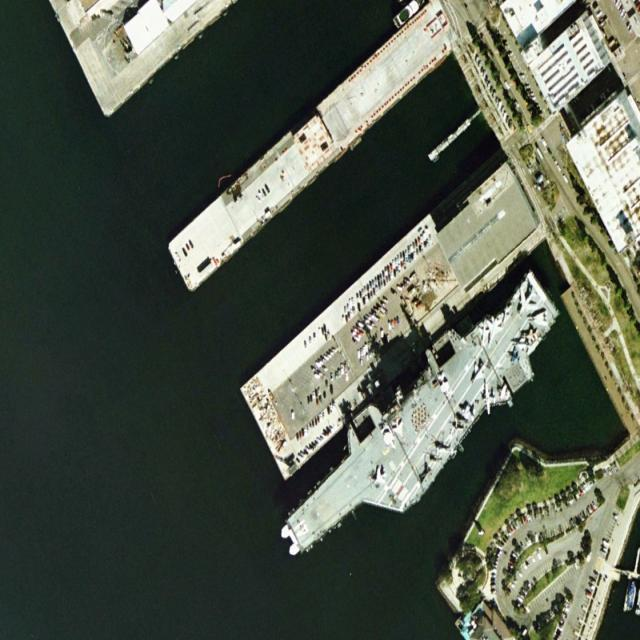Aircraft Carrier: (273, 252, 578, 593)
